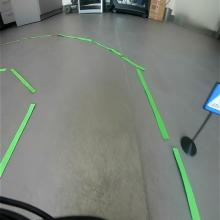crosswalk: (202, 80, 220, 117)
